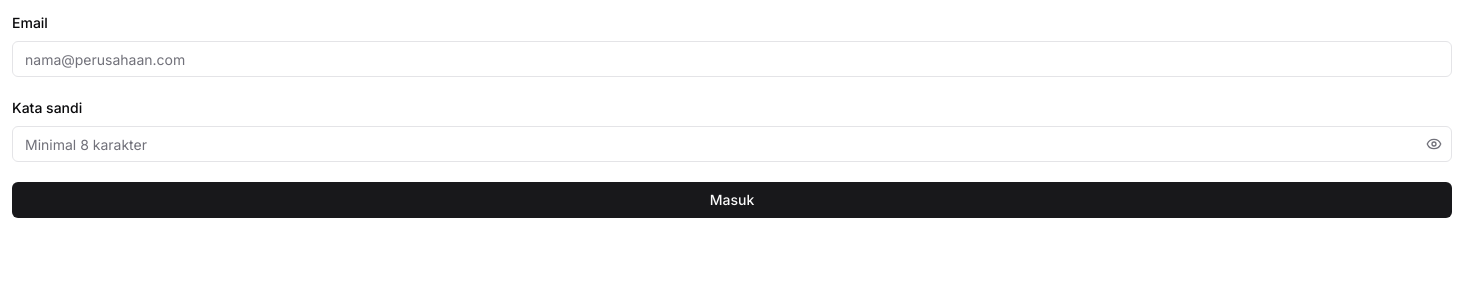
Test: LoginForm › rejects an invalid email and a short password
The image size is (1464, 283).
Type "bukan-email" into the field labelled "Email". click: x=732, y=59
box: [12,41,1452,77]
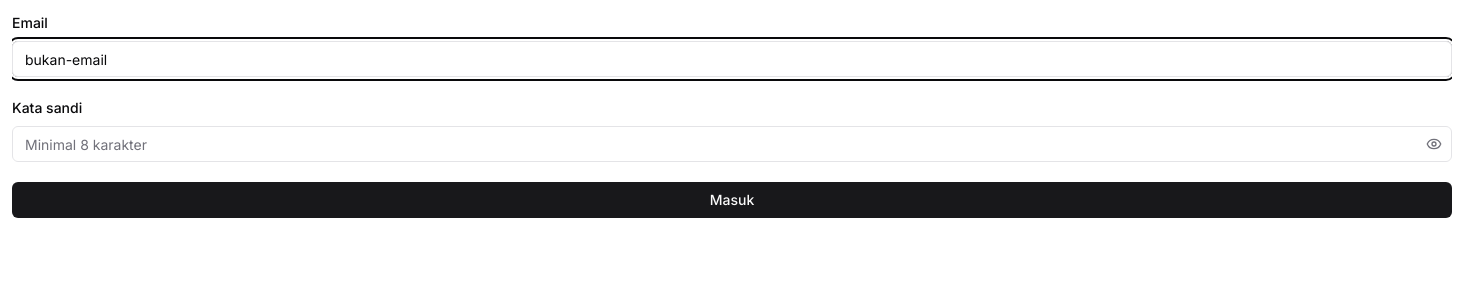
Type "pendek" into the password field labelled "Kata sandi". click: x=732, y=144
box: [12,126,1452,162]
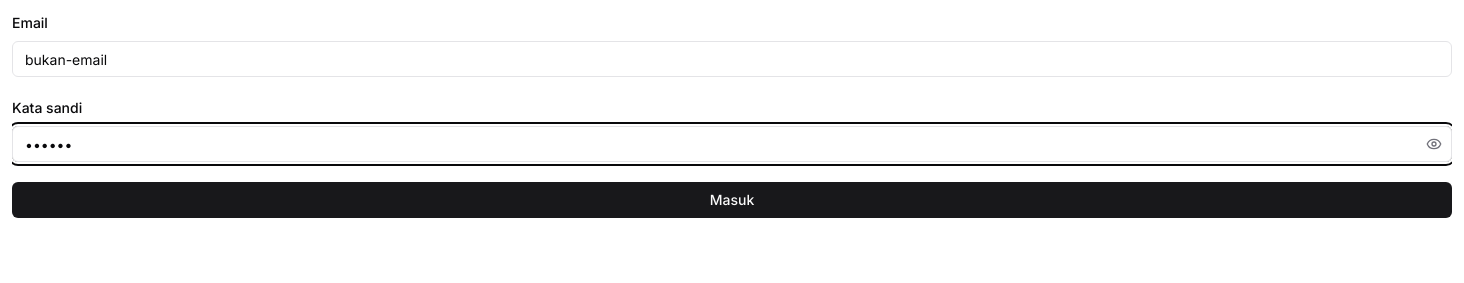
Click the button "Masuk". click: x=732, y=200
box: [12,182,1452,218]
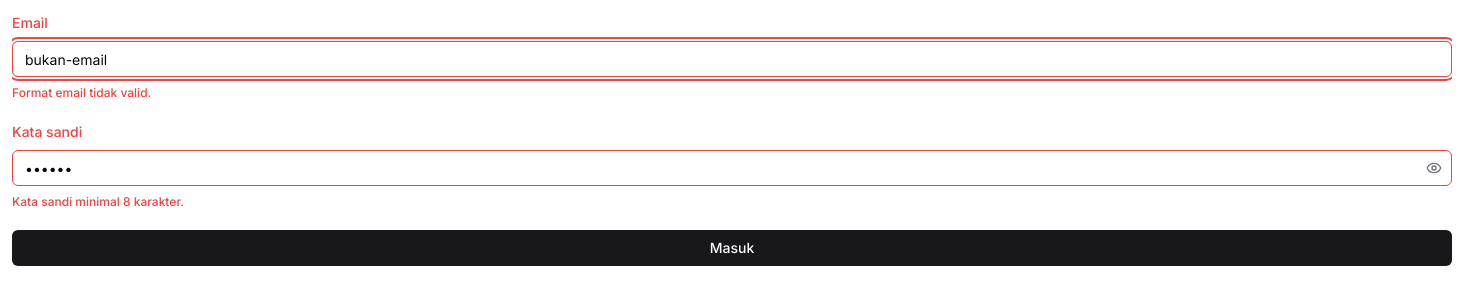
Result: the text "Format email tidak valid." is shown at [12,85,151,100]
Result: the text "Kata sandi minimal 8 karakter." is shown at [12,194,184,209]
